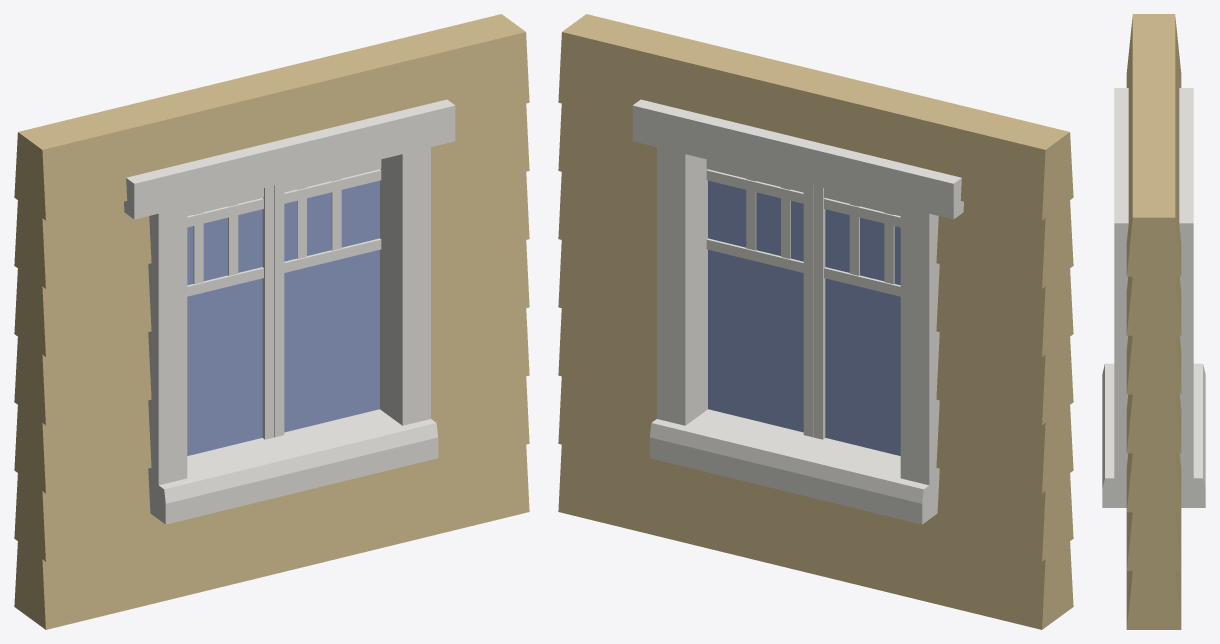
File: Window01_house4.fbx
3 views of the same model, side by side, from view 1: azimuth 30°, elevation 25°; view 2: azimuth 150°, elevation 25°; view 3: azimuth 270°, elevation 25° (orthographic). The views are drawn at different scales.
Visible parts, largest first — view 1: Window01_house04; view 2: Window01_house04; view 3: Window01_house04.
Boxes of the visible parts, <box> form: Window01_house04: <box>14,14,529,629</box>; Window01_house04: <box>558,14,1073,629</box>; Window01_house04: <box>1102,14,1205,629</box>.
Size of the model in its own units: 350 by 330 by 75.26.
